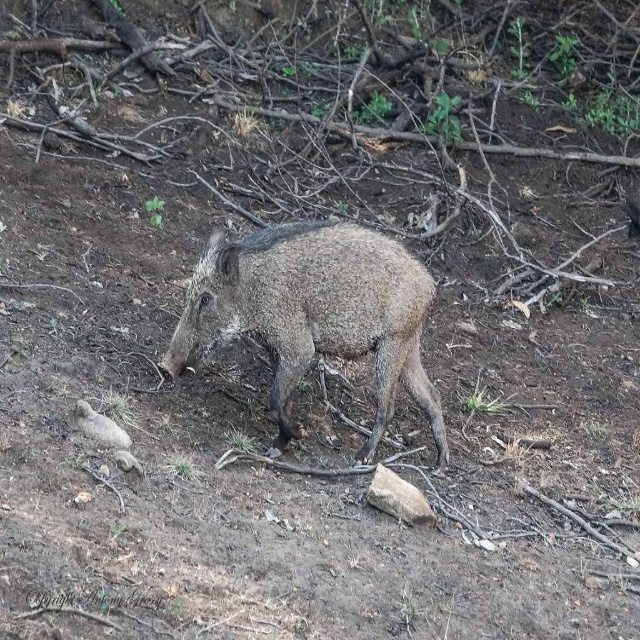Pig: (156, 216, 450, 474)
